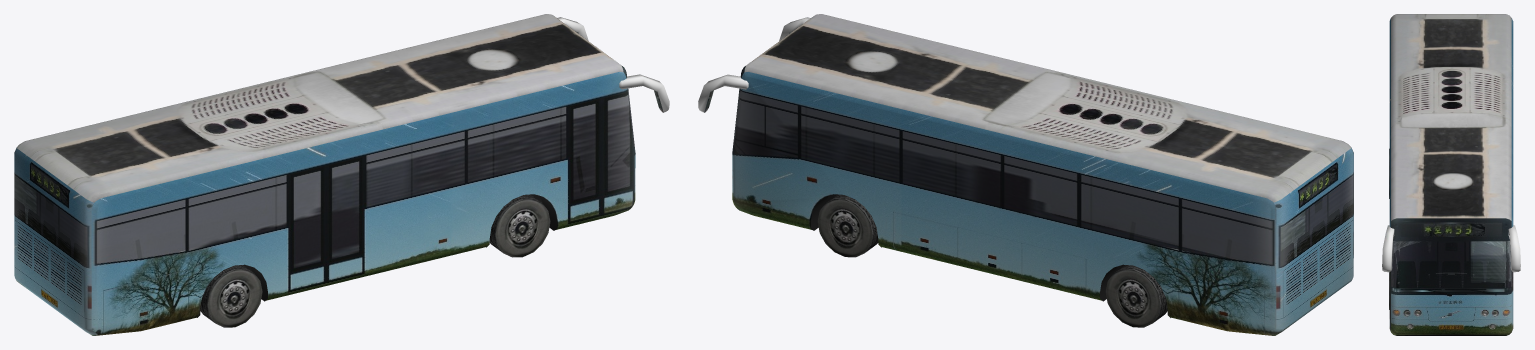
The model's file is bus.glb.
3 views of the same model, side by side, from view 1: azimuth 30°, elevation 25°; view 2: azimuth 150°, elevation 25°; view 3: azimuth 270°, elevation 25° (orthographic). The views are drawn at different scales.
Parts seen in each view (by area): view 1: bus02; view 2: bus02; view 3: bus02.
Boxes of the visible parts, x1,y1,x2,y2 form: bus02: [14, 14, 669, 335]; bus02: [698, 14, 1353, 335]; bus02: [1382, 14, 1520, 335].
Bounding box in the file's own units: 10.65 × 2.9 × 2.81.
Materials: 1 (1 with a texture image).
